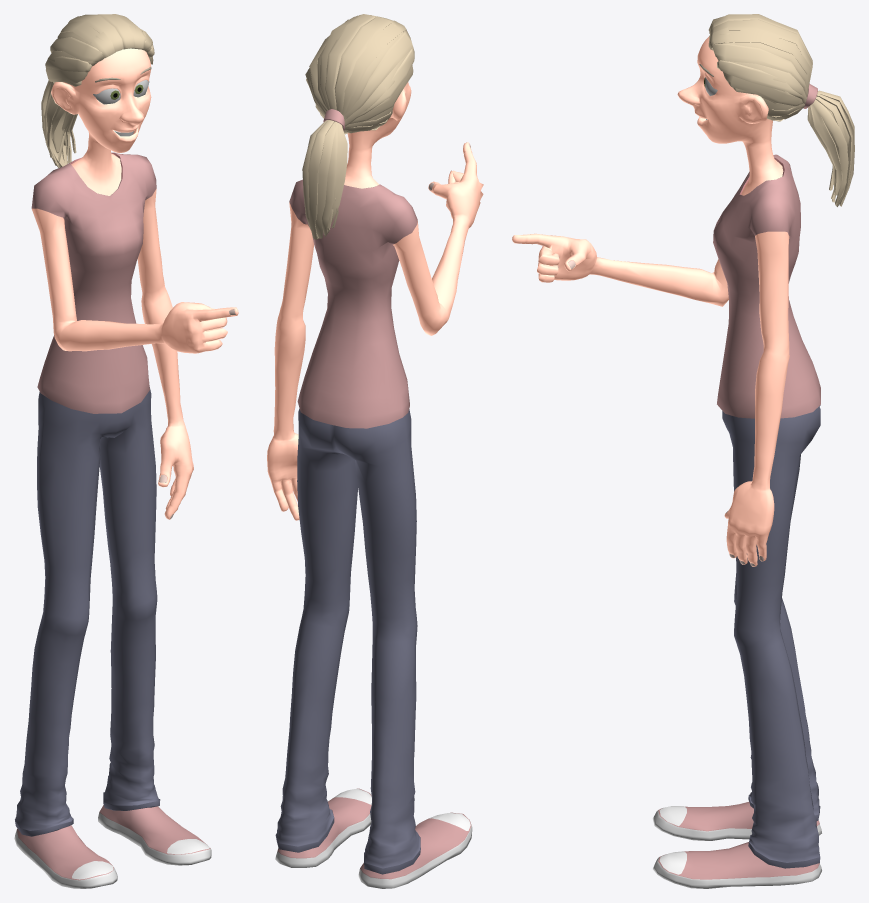
The model's file is female_goodEndingPose (2).fbx.
3 views of the same model, side by side, from view 1: azimuth 30°, elevation 25°; view 2: azimuth 150°, elevation 25°; view 3: azimuth 270°, elevation 25° (orthographic).
Visible parts, largest first — view 1: eyeBall1Lf; view 2: eyeBall1Lf; view 3: eyeBall1Lf.
Boxes of the visible parts, x1=… form: eyeBall1Lf: x1=14, y1=14, x2=238, y2=888; eyeBall1Lf: x1=267, y1=14, x2=483, y2=888; eyeBall1Lf: x1=512, y1=14, x2=854, y2=888.
Size of the model in its own units: 1.82 by 8.76 by 3.26.
